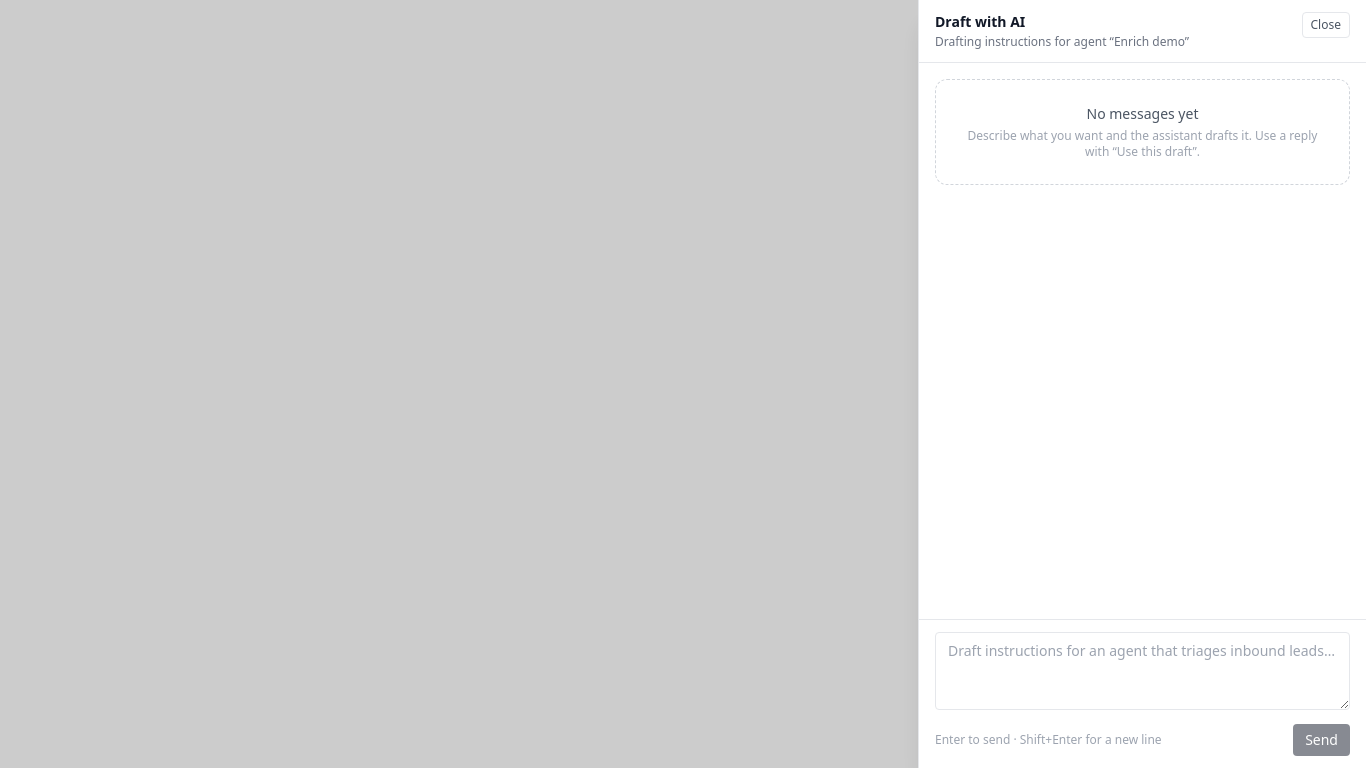
Test: AssistantDrawer › surfaces a 502 as transient, keeping the input enabled and the turn in the transcript
Type "draft something" into the text box named "Message".
click(1142, 671); type("draft something")  # box [935,632,1350,710]
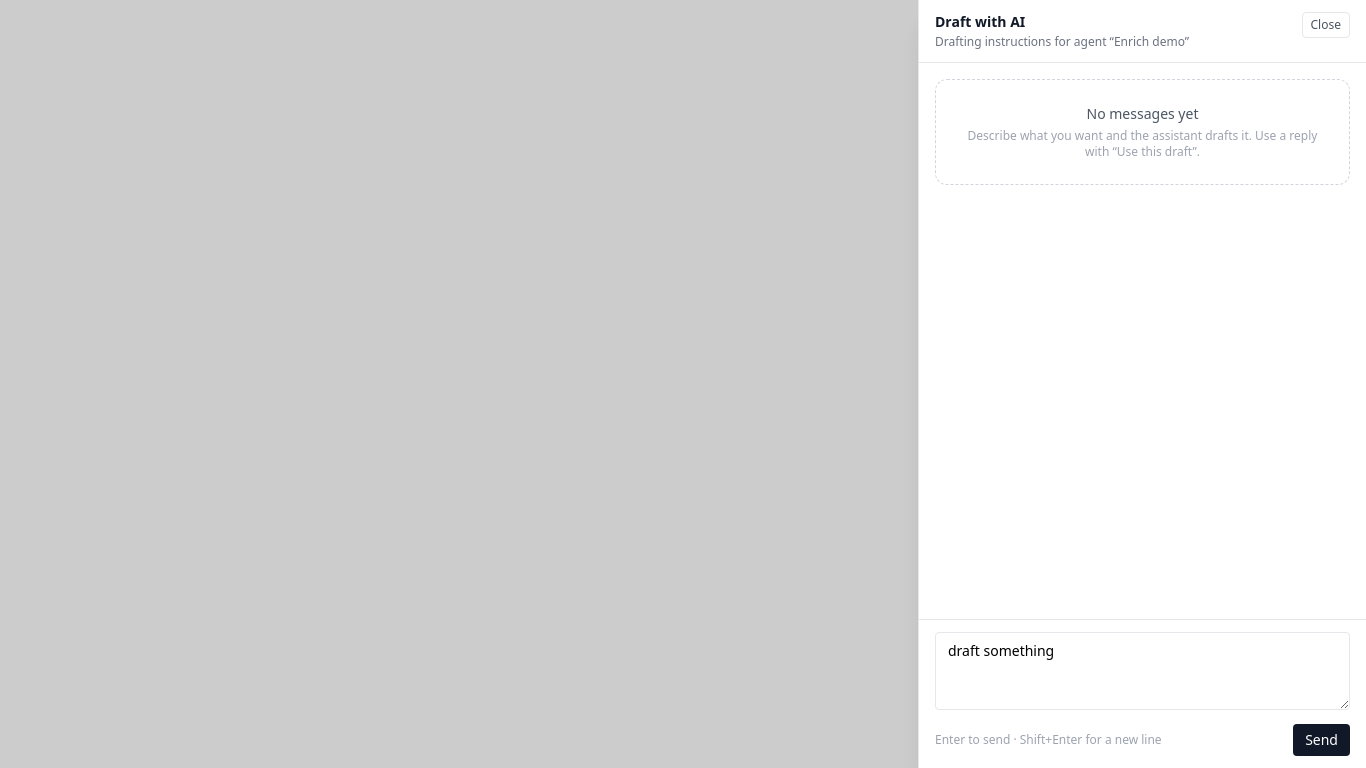
Click the button "Send".
click(1322, 740)  # box [1293,724,1350,756]
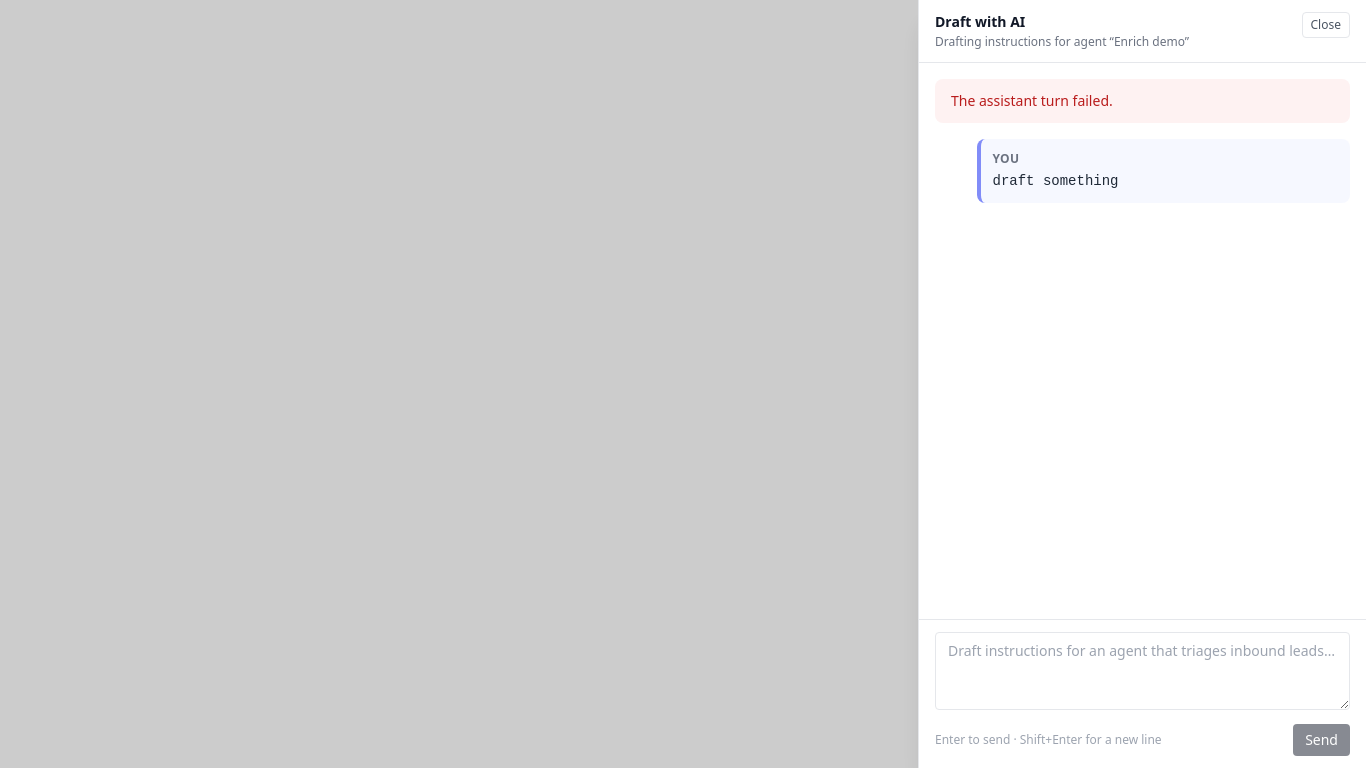
Expected: the text box named "Message" is enabled, [935,632,1350,710]
Expected: the message reads "The assistant turn failed.", [951,91,1113,110]
Expected: the text "draft something" is shown, [992,173,1118,189]
